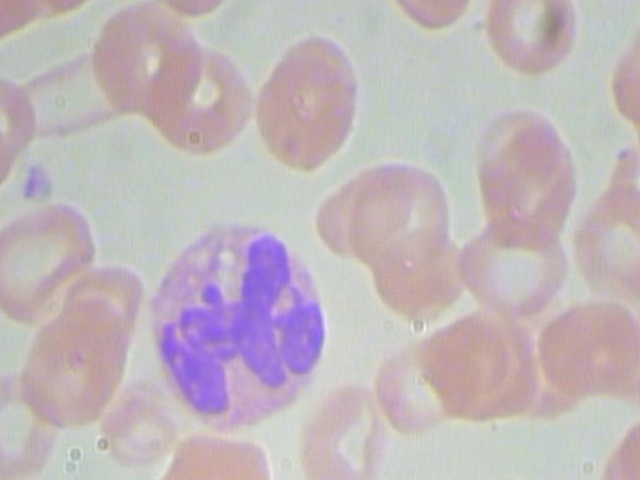RBC: (245, 28, 375, 172), (337, 157, 459, 283), (455, 199, 577, 325), (0, 197, 113, 331), (83, 0, 205, 116), (296, 379, 395, 480), (474, 0, 591, 83), (0, 360, 67, 478), (142, 428, 280, 480), (371, 0, 484, 40), (137, 0, 244, 17)
WBC: (132, 212, 345, 441)
